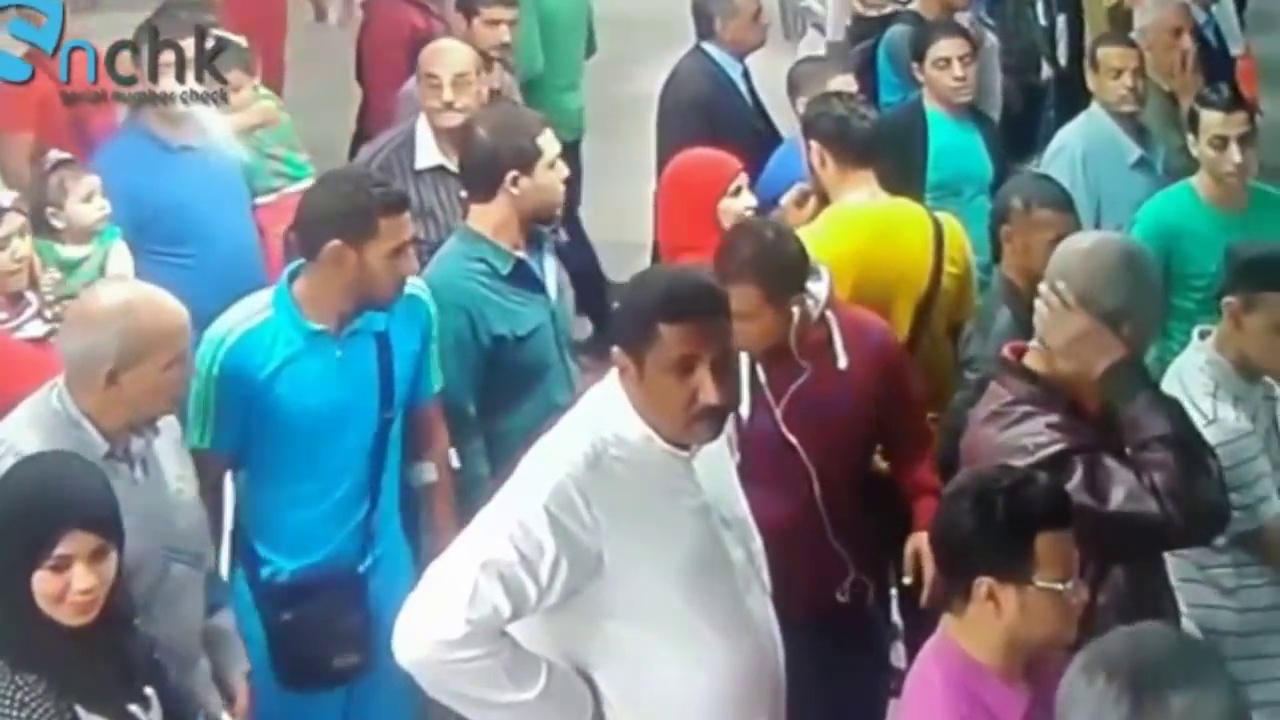face: (647, 322, 737, 442), (34, 525, 115, 632), (1029, 532, 1091, 643), (415, 50, 484, 134), (346, 222, 409, 312), (511, 130, 574, 220), (1198, 117, 1259, 186), (1094, 50, 1146, 111), (920, 48, 978, 98), (59, 178, 111, 230), (2, 213, 25, 303), (719, 171, 754, 226), (471, 6, 513, 50)
